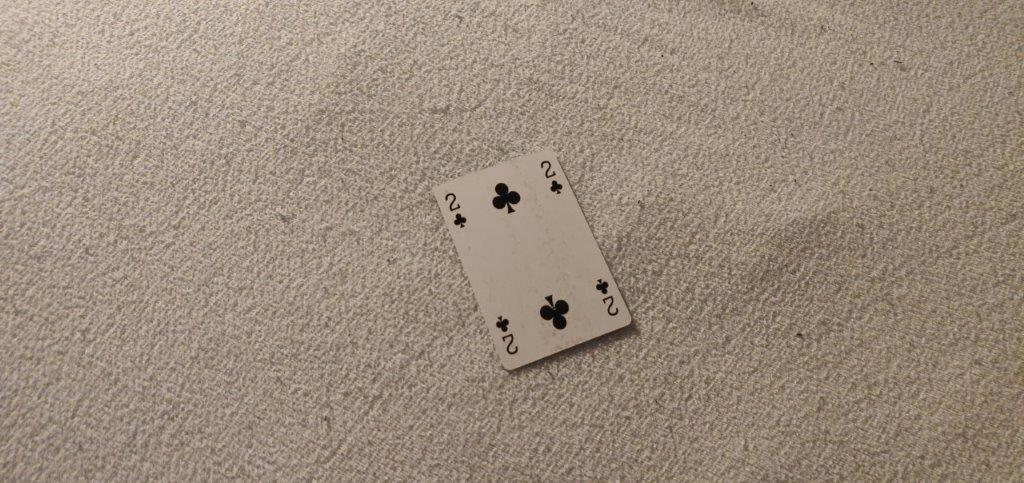2C: (441, 190, 470, 235), (537, 158, 565, 197)
